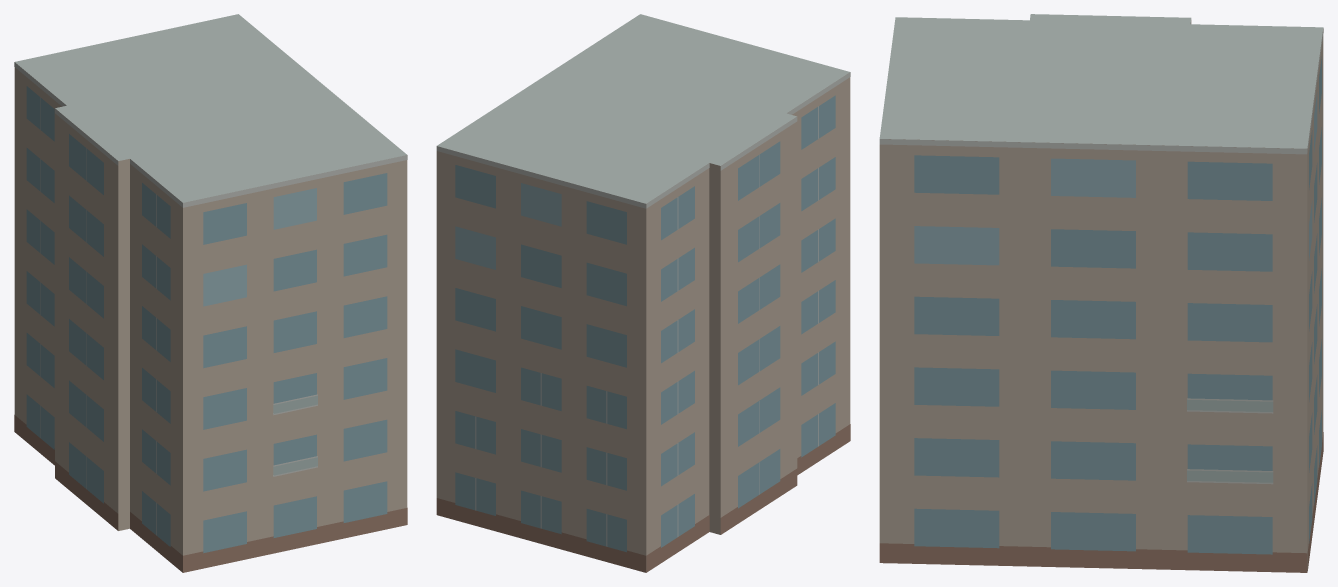
File: survey-upis-32540082.glb
The picture shows the model from 3 angles, left to right: view 1: azimuth 30°, elevation 25°; view 2: azimuth 150°, elevation 25°; view 3: azimuth 270°, elevation 25°; orthographic projection. The views are drawn at different scales.
Visible parts, largest first — view 1: survey-upis-32540082.tmp; view 2: survey-upis-32540082.tmp; view 3: survey-upis-32540082.tmp.
Part boxes in pixels (box(x1,y1,x2,y2)): survey-upis-32540082.tmp: box(14, 14, 407, 572); survey-upis-32540082.tmp: box(436, 14, 850, 572); survey-upis-32540082.tmp: box(879, 14, 1323, 572).
Bounding box in the file's own units: 12.48 × 18.3 × 17.37.
